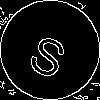S: (25, 25, 74, 81)
